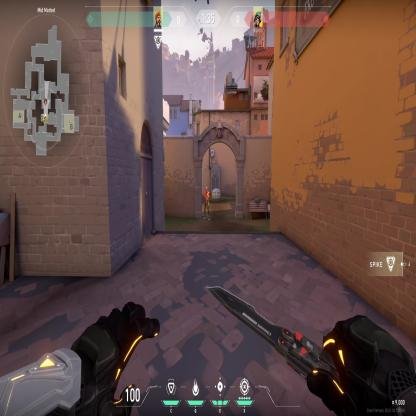enemy: (203, 186, 210, 219)
